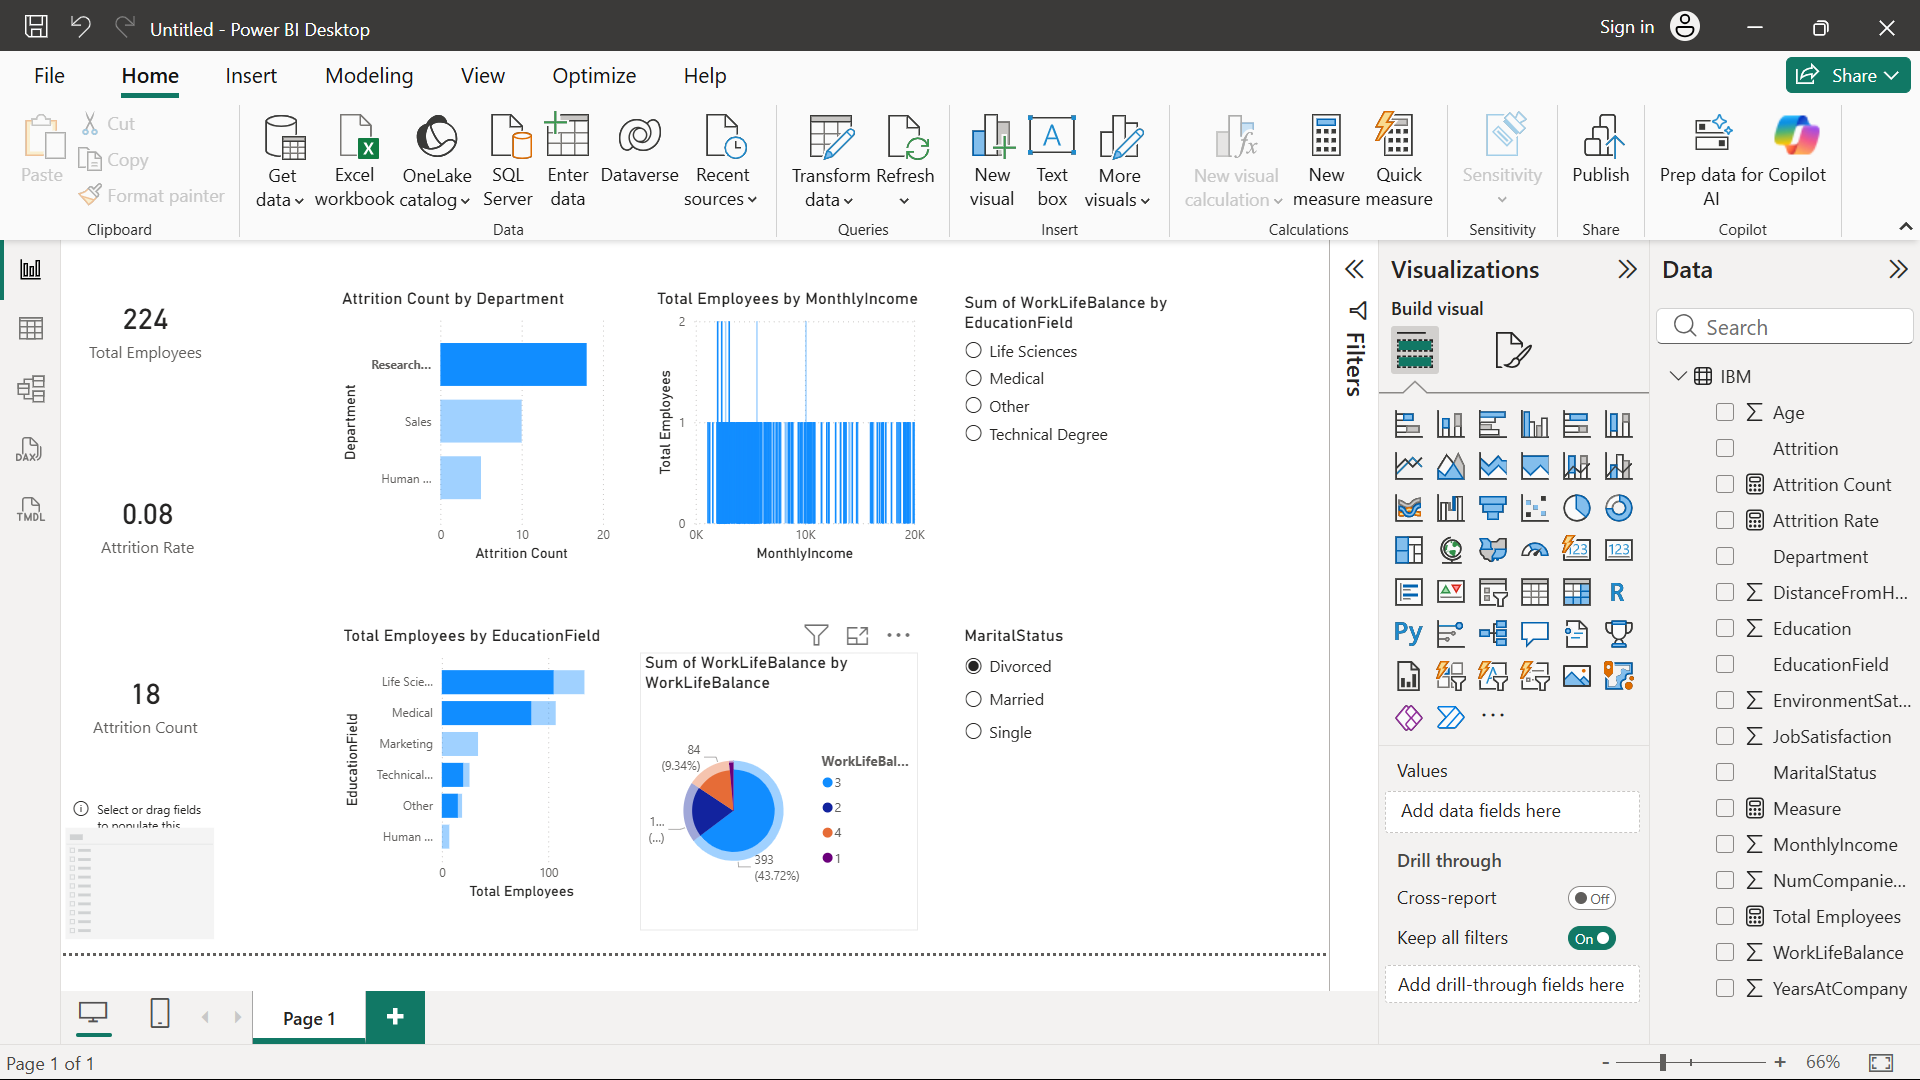

What the dashboard file says about the page in this screenshot:
{"tool":"powerbi","page":{"name":"Page 1","canvas":[1280,720],"ordinal":0},"visuals":[{"type":"card","fields":{"Values":["IBM.Total Employees"]},"box":[0,99.9,221.1,289.2],"z":0},{"type":"card","fields":{"Values":["IBM.Attrition Rate"]},"box":[16.7,337.7,174.1,181.7],"z":1000},{"type":"card","fields":{"Values":["IBM.Attrition Count"]},"box":[16.7,537.5,139.3,181.7],"z":2000},{"type":"clusteredBarChart","fields":{"Category":["IBM.Department"],"Y":["IBM.Attrition Count"]},"box":[278.6,109,280.1,280.1],"z":3000},{"type":"clusteredBarChart","fields":{"Category":["IBM.EducationField"],"Y":["IBM.Total Employees"]},"box":[278.6,428.5,280.1,280.1],"z":4000},{"type":"pieChart","fields":{"Y":["Sum(IBM.WorkLifeBalance)"],"Category":["IBM.WorkLifeBalance"]},"box":[586,439.1,280.1,280.1],"z":5000},{"type":"columnChart","fields":{"Category":["IBM.MonthlyIncome"],"Y":["IBM.Total Employees"]},"box":[598.1,128.7,280.1,280.1],"z":6000},{"type":"listSlicer","fields":{"Values":["IBM.MaritalStatus"]},"box":[907,439.1,299.8,280.1],"z":7000},{"type":"listSlicer","fields":{"Values":["IBM.EducationField"]},"box":[907,128.7,299.8,280.1],"z":8000},{"type":"textbox","box":[99.9,36.3,1002.4,63.6],"z":9000}]}

Visuals, with their boxes on the page's 1280x720 design canvas (x1, y1, x2, y2). These are canvas units, not pixel positions in the 1920x1080 screenshot, which may show the page scaled, cropped or inside an application window:
card - IBM.Total Employees: l=0, t=100, r=221, b=389
card - IBM.Attrition Rate: l=17, t=338, r=191, b=519
card - IBM.Attrition Count: l=17, t=538, r=156, b=719
clusteredBarChart - IBM.Department x IBM.Attrition Count: l=279, t=109, r=559, b=389
clusteredBarChart - IBM.EducationField x IBM.Total Employees: l=279, t=428, r=559, b=709
pieChart - Sum(IBM.WorkLifeBalance) x IBM.WorkLifeBalance: l=586, t=439, r=866, b=719
columnChart - IBM.MonthlyIncome x IBM.Total Employees: l=598, t=129, r=878, b=409
listSlicer - IBM.MaritalStatus: l=907, t=439, r=1207, b=719
listSlicer - IBM.EducationField: l=907, t=129, r=1207, b=409
textbox: l=100, t=36, r=1102, b=100
